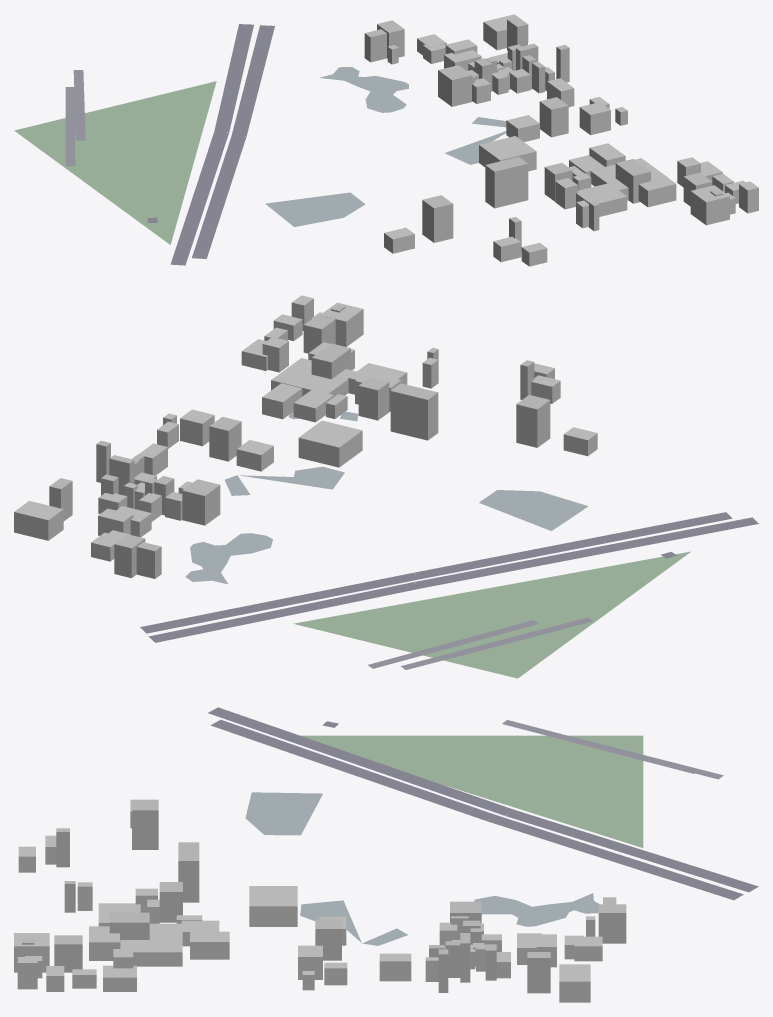
The model's file is 132_84_mid.glb.
The picture shows the model from 3 angles, top to bottom: view 1: azimuth 30°, elevation 25°; view 2: azimuth 150°, elevation 25°; view 3: azimuth 270°, elevation 25°; orthographic projection. The views are drawn at different scales.
Size of the model in its own units: 541 by 43.5 by 604.
